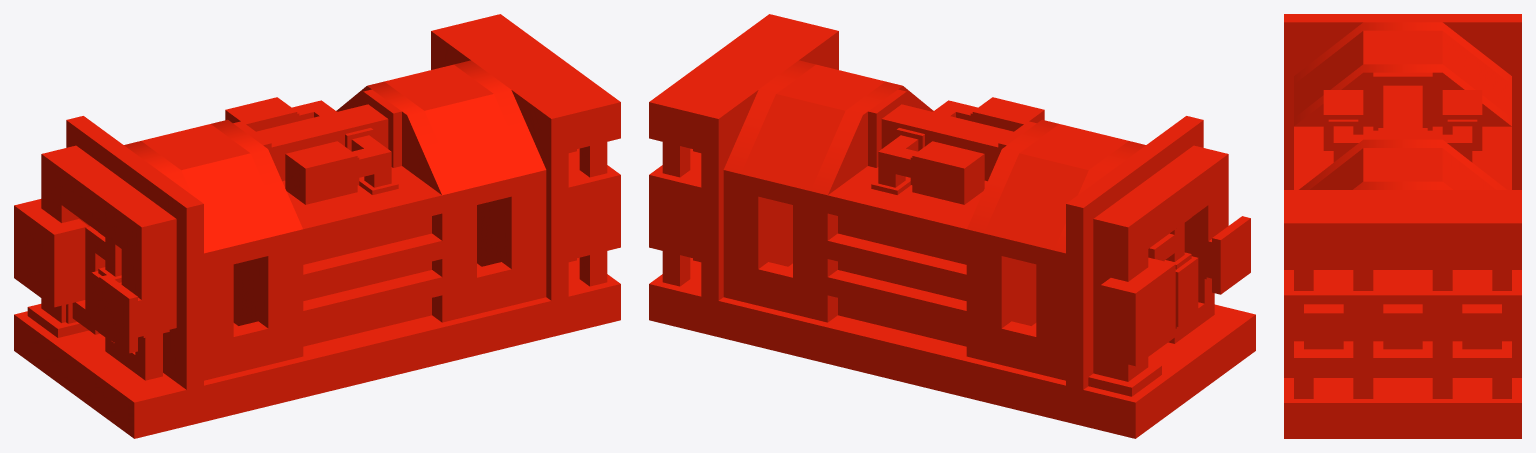
File: steam_turbine.obj
3 renders of one model, left to right at view 1: azimuth 30°, elevation 25°; view 2: azimuth 150°, elevation 25°; view 3: azimuth 270°, elevation 25°, orthographic.
Visible parts, largest first — view 1: base; view 2: base; view 3: base.
Part boxes in pixels (bbox=[...]): base: bbox=[14, 14, 620, 438]; base: bbox=[649, 14, 1255, 438]; base: bbox=[1284, 14, 1521, 438].
Size of the model in its own units: 7 by 3 by 3.
